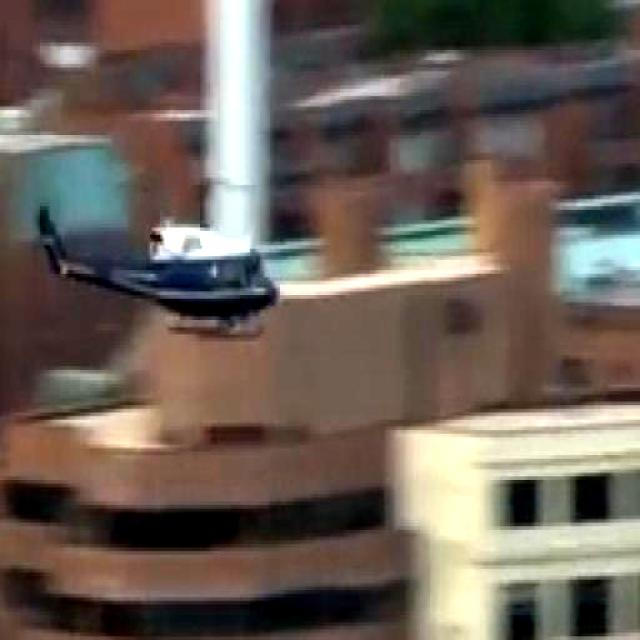drone: (24, 175, 290, 352)
